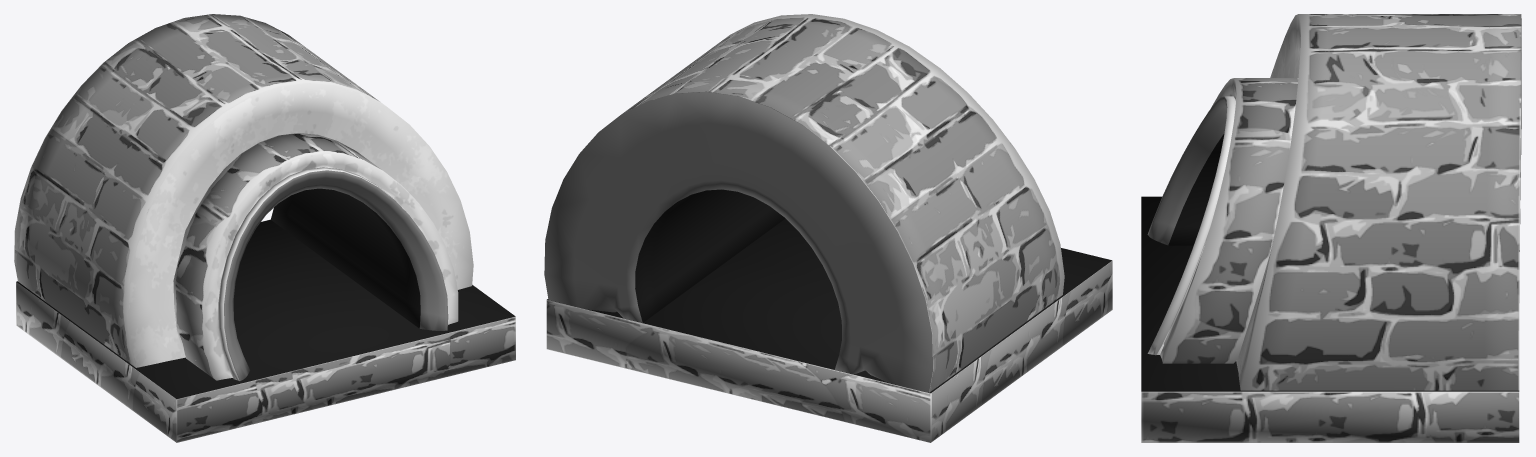
File: TUNNEL.obj
3 views of the same model, side by side, from view 1: azimuth 30°, elevation 25°; view 2: azimuth 150°, elevation 25°; view 3: azimuth 270°, elevation 25° (orthographic). The views are drawn at different scales.
Parts seen in each view (by area): view 1: default626f_8; view 2: default626f_8; view 3: default626f_8.
Boxes of the visible parts, x1,y1,x2,y2 form: default626f_8: (14,14,515,442); default626f_8: (544,14,1112,442); default626f_8: (1141,14,1521,442).
Size of the model in its own units: 12.88 by 9.52 by 10.49.
